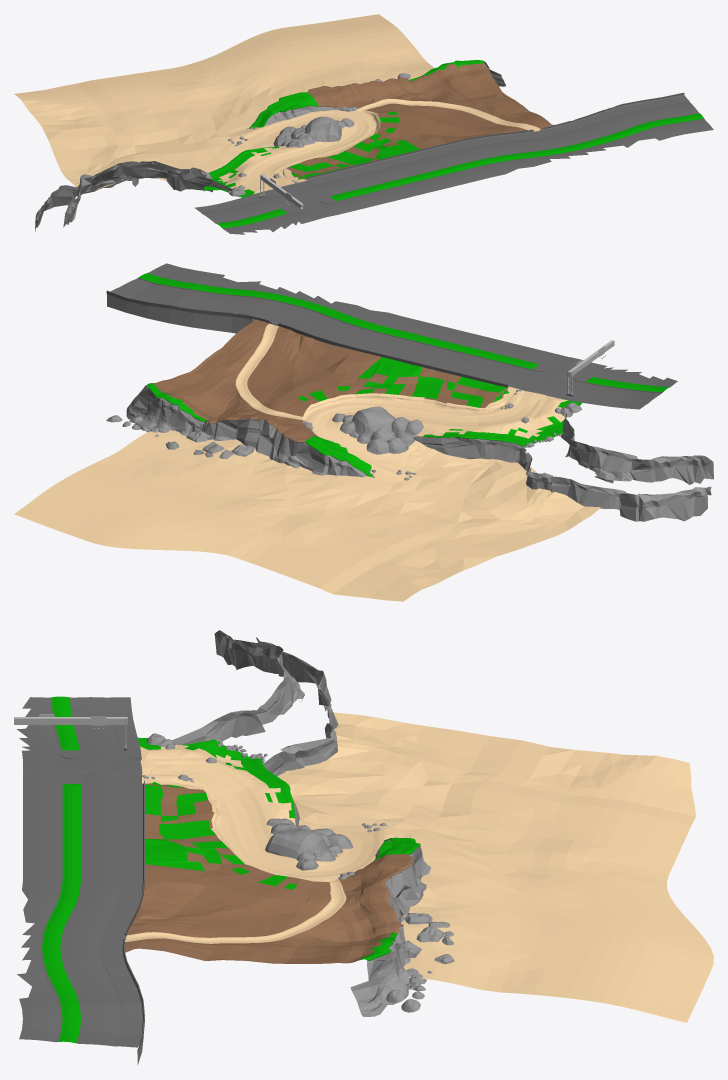
File: bronx_e2_12.FBX
3 views of the same model, one above another, from view 1: azimuth 30°, elevation 25°; view 2: azimuth 150°, elevation 25°; view 3: azimuth 270°, elevation 25° (orthographic). The views are drawn at different scales.
Visible parts, largest first — view 1: unnamed, null; view 2: unnamed, null; view 3: unnamed, null.
Part boxes in pixels (x1,y1,x2,y2): unnamed: [14, 14, 502, 234]; null: [272, 60, 713, 201]; unnamed: [14, 340, 713, 601]; null: [106, 263, 507, 459]; unnamed: [14, 630, 713, 1022]; null: [17, 810, 378, 1065].
Size of the model in its own units: 296 by 30.61 by 212.
